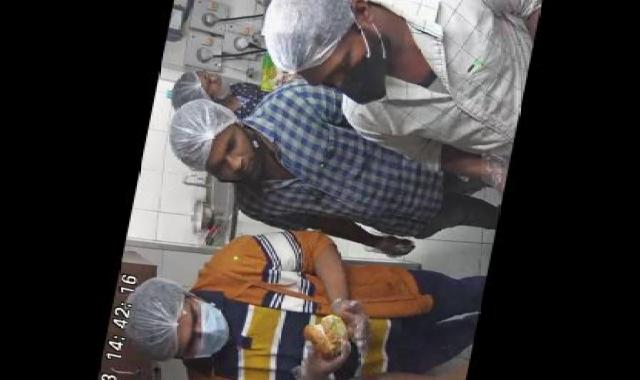hairnet: (254, 1, 378, 79), (101, 275, 195, 366), (161, 90, 239, 165)
